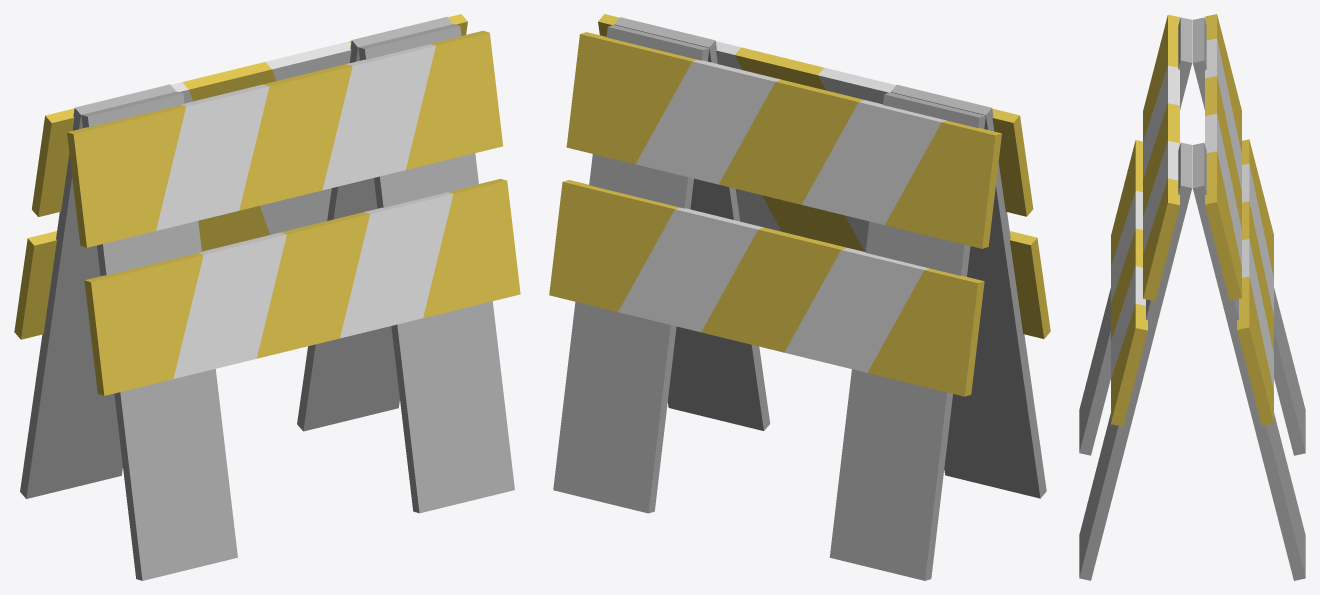
File: dontcross.fbx
3 renders of one model, left to right at view 1: azimuth 30°, elevation 25°; view 2: azimuth 150°, elevation 25°; view 3: azimuth 270°, elevation 25°, orthographic. The views are drawn at different scales.
Parts seen in each view (by area): view 1: Plane; view 2: Plane; view 3: Plane.
Part boxes in pixels (x1,y1,x2,y2): Plane: (14,14,520,580); Plane: (549,14,1050,580); Plane: (1079,14,1305,580).
Size of the model in its own units: 201 by 196 by 102.
Materials: 3 (3 with a texture image).
